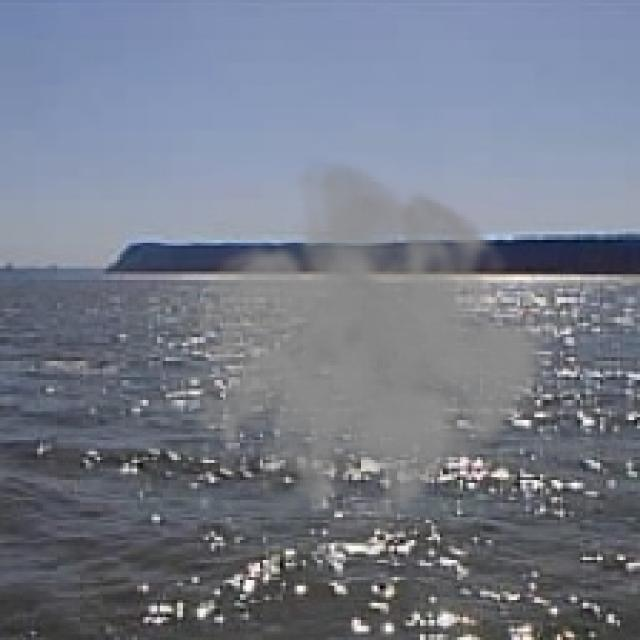smoke: (172, 154, 554, 543)
